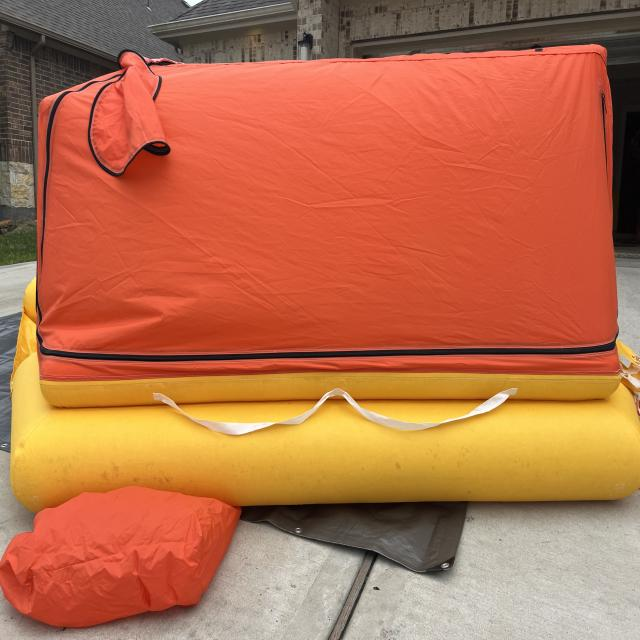Multi-person_life_raft: (0, 49, 640, 628)
